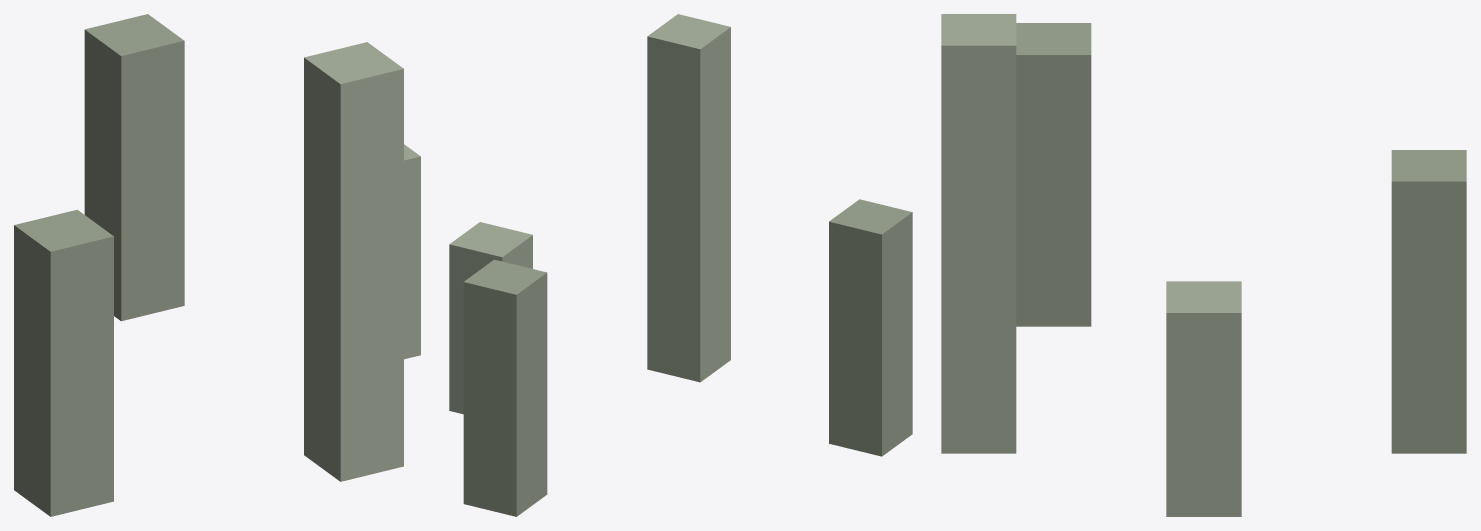
Rendered from liquen_roca_02.glb.
3 renders of one model, left to right at view 1: azimuth 30°, elevation 25°; view 2: azimuth 150°, elevation 25°; view 3: azimuth 270°, elevation 25°, orthographic. The views are drawn at different scales.
Parts seen in each view (by area): view 1: liquen_roca_02; view 2: liquen_roca_02; view 3: liquen_roca_02.
Part boxes in pixels (x1,y1,x2,y2): liquen_roca_02: (14,14,420,516); liquen_roca_02: (449,14,912,516); liquen_roca_02: (941,14,1466,516).
Size of the model in its own units: 0.7 by 0.6 by 0.7.
